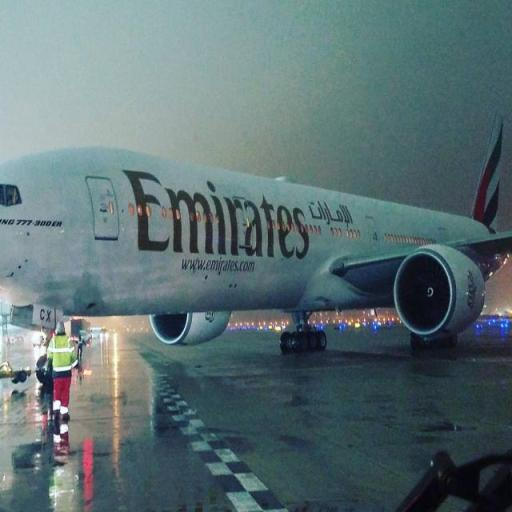Emirates: (122, 164, 322, 278)
